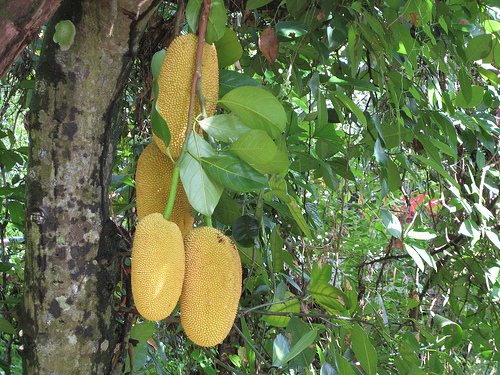jackfruit: (152, 32, 218, 159), (179, 226, 241, 348), (127, 210, 190, 327), (127, 140, 194, 248)
